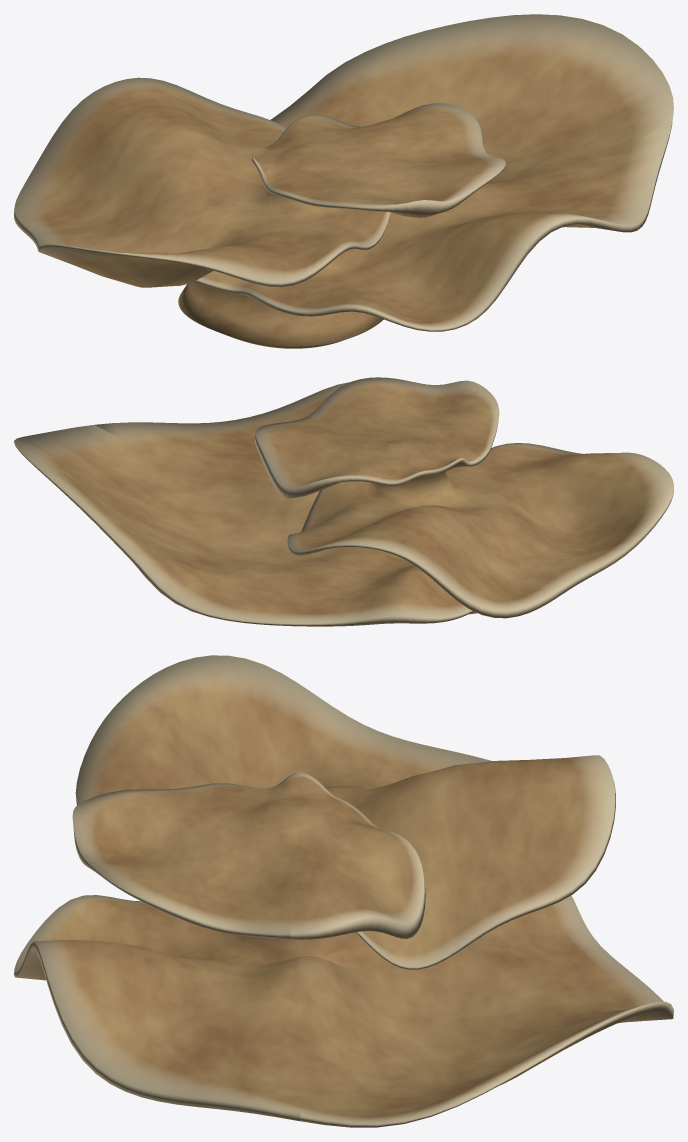
Rendered from plate_v6_fan_lod0.glb.
3 views of the same model, one above another, from view 1: azimuth 30°, elevation 25°; view 2: azimuth 150°, elevation 25°; view 3: azimuth 270°, elevation 25° (orthographic). The views are drawn at different scales.
Parts seen in each view (by area): view 1: plate_v6_folds_fan_LOD0; view 2: plate_v6_folds_fan_LOD0; view 3: plate_v6_folds_fan_LOD0.
Boxes of the visible parts, left/top/right/bottom form: plate_v6_folds_fan_LOD0: left=14, top=14, right=673, bottom=348; plate_v6_folds_fan_LOD0: left=14, top=377, right=673, bottom=626; plate_v6_folds_fan_LOD0: left=14, top=655, right=673, bottom=1127.
Size of the model in its own units: 1.57 by 0.36 by 1.05.
1 material, 1 textured.
